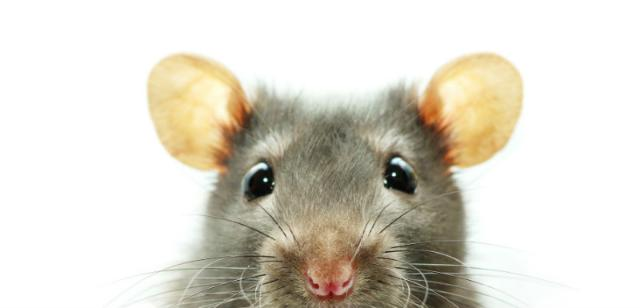rat: (132, 43, 526, 307)
